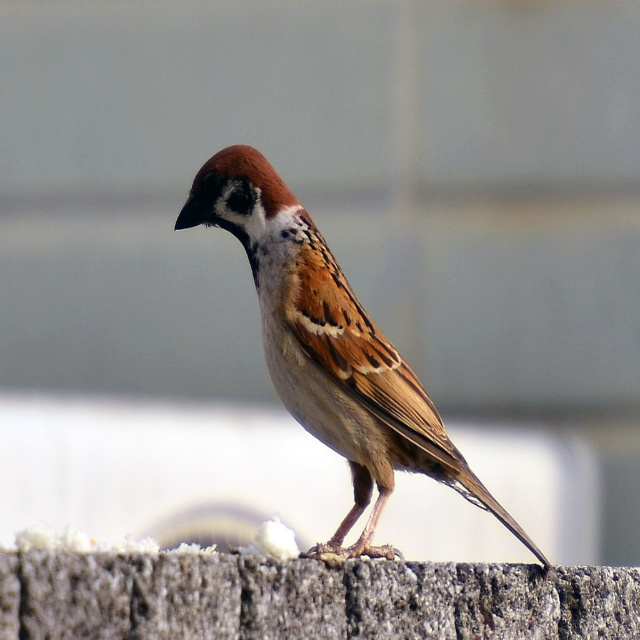Sparrow: (173, 145, 551, 566)
